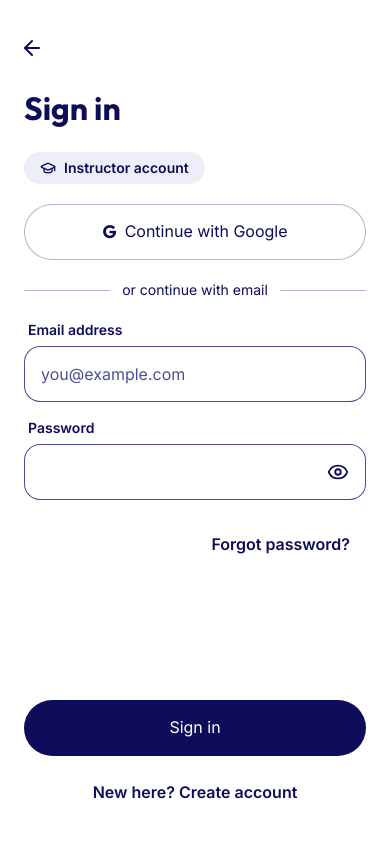
Scenario: phone sign-in screen › announces every validation message and moves focus to the first invalid field
This screenshot has width=390, height=844.
Click the button "Sign in". click: coordinates (195, 728)
box: 24,700 -> 366,756
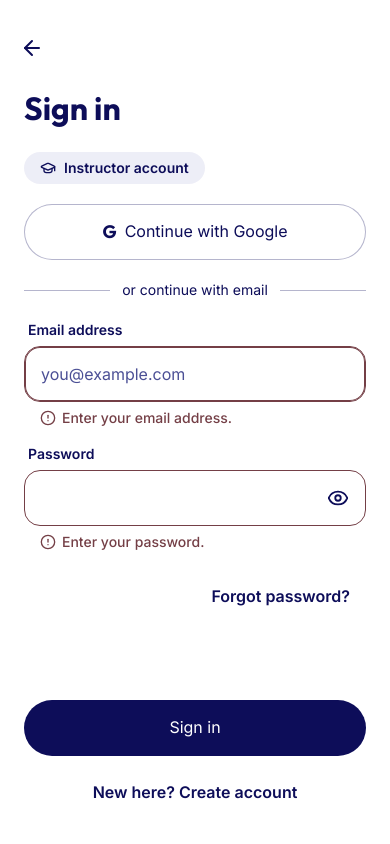
Now the text "Enter your email address." is shown, box 40,409 -> 232,426
Now the text "Enter your password." is shown, box 40,533 -> 204,550
Now the number of messages is 2, box 40,409 -> 232,426; 40,533 -> 204,550
